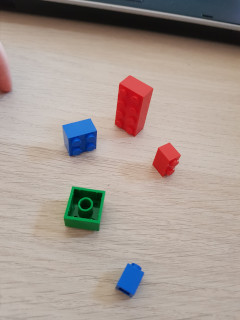1x1 blue: (116, 263, 145, 297)
1x2 red: (152, 142, 181, 178)
2x2 blue: (62, 118, 97, 157)
2x2 green: (62, 186, 106, 233)
2x4 red: (113, 75, 153, 136)
